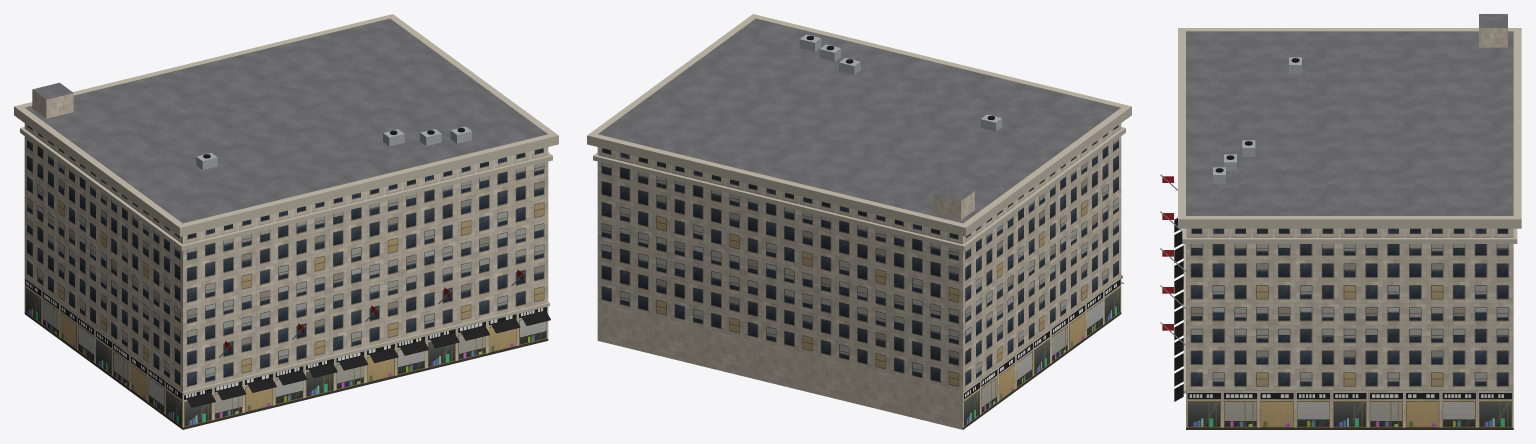
File: 061_dept_store.glb
The picture shows the model from 3 angles, left to right: view 1: azimuth 30°, elevation 25°; view 2: azimuth 150°, elevation 25°; view 3: azimuth 270°, elevation 25°; orthographic projection. The views are drawn at different scales.
Visible parts, largest first — view 1: 061_dept_store; view 2: 061_dept_store; view 3: 061_dept_store.
Boxes of the visible parts, x1,y1,x2,y2 form: 061_dept_store: [14, 14, 558, 429]; 061_dept_store: [587, 14, 1131, 429]; 061_dept_store: [1160, 14, 1521, 429].
Size of the model in its own units: 62.2 by 35.4 by 49.64.
Materials: 11 (5 with a texture image).
